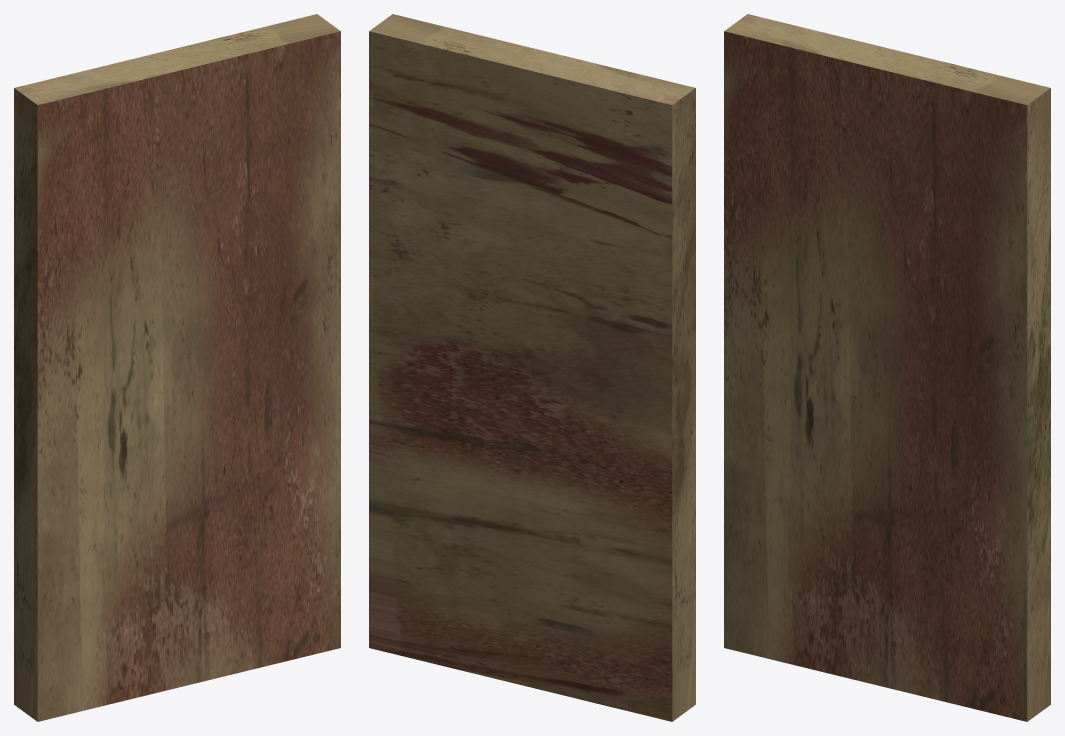
The model's file is wall_short.fbx.
3 renders of one model, left to right at view 1: azimuth 30°, elevation 25°; view 2: azimuth 150°, elevation 25°; view 3: azimuth 330°, elevation 25°, orthographic.
Parts seen in each view (by area): view 1: Wall_Short; view 2: Wall_Short; view 3: Wall_Short.
Part boxes in pixels (x1,y1,x2,y2): Wall_Short: (14,14,340,721); Wall_Short: (369,14,695,721); Wall_Short: (724,14,1050,721).
Bounding box in the file's own units: 1.63 × 3.17 × 0.2195.
